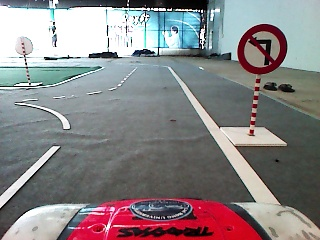ban_left: (236, 23, 289, 75)
